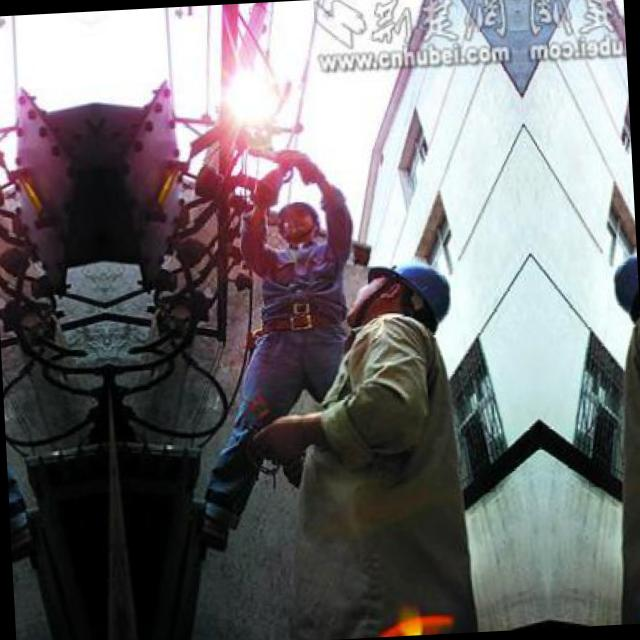helmet: (342, 243, 442, 340), (267, 188, 328, 248)
